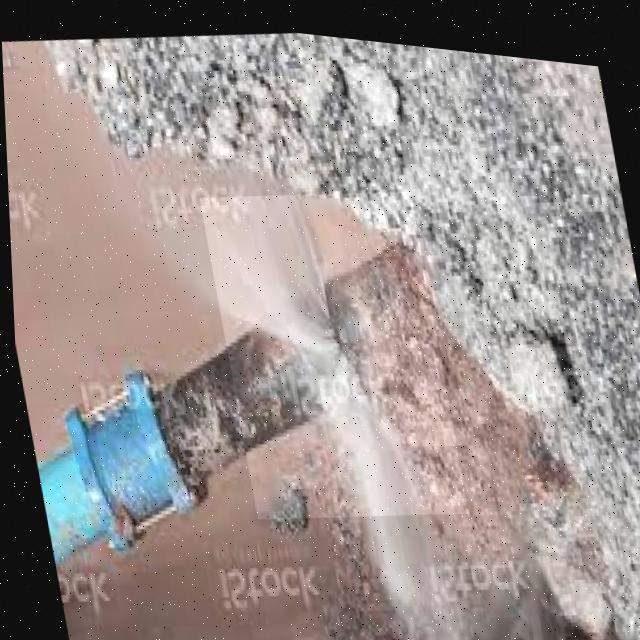corrosion: (233, 256, 390, 441)
